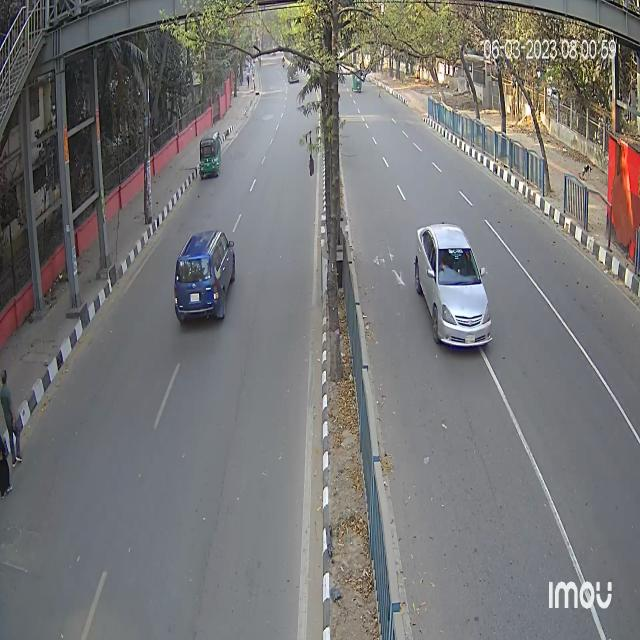cng: (196, 127, 223, 181)
